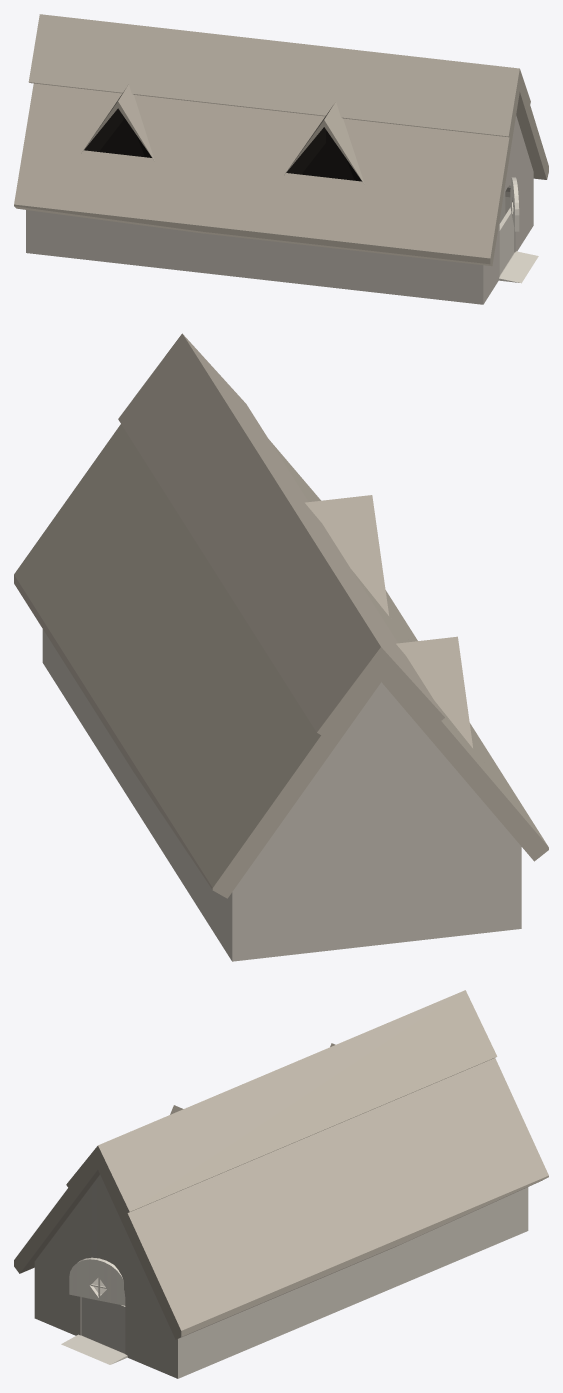
The model's file is cottage-north_clay.glb.
3 views of the same model, one above another, from view 1: azimuth 30°, elevation 25°; view 2: azimuth 150°, elevation 25°; view 3: azimuth 270°, elevation 25° (orthographic). The views are drawn at different scales.
Visible parts, largest first — view 1: roofs, walls, openings, frames; view 2: roofs, walls; view 3: roofs, walls, frames.
Part boxes in pixels (<box>): roofs: <box>14,14,548,266</box>; walls: <box>26,115,533,304</box>; openings: <box>84,108,361,181</box>; frames: <box>498,177,538,283</box>; roofs: <box>14,333,548,898</box>; walls: <box>42,629,521,961</box>; roofs: <box>14,990,548,1339</box>; walls: <box>34,1174,528,1378</box>; frames: <box>61,1257,127,1364</box>.
Bounding box in the file's own units: 9.65 × 4.14 × 9.69.
